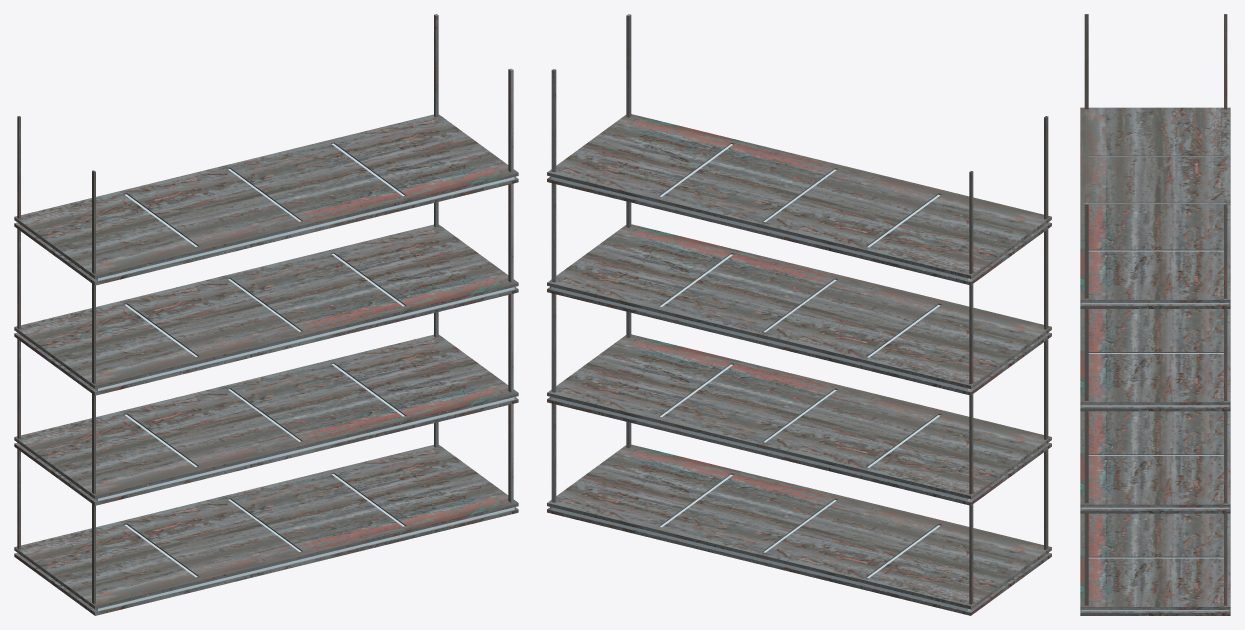
The model's file is EB_Storageshelf.fbx.
3 renders of one model, left to right at view 1: azimuth 30°, elevation 25°; view 2: azimuth 150°, elevation 25°; view 3: azimuth 270°, elevation 25°, orthographic. The views are drawn at different scales.
Parts seen in each view (by area): view 1: ShelfBig.001; view 2: ShelfBig.001; view 3: ShelfBig.001.
Boxes of the visible parts, x1,y1,x2,y2 form: ShelfBig.001: (14,14,518,615); ShelfBig.001: (547,14,1051,615); ShelfBig.001: (1080,14,1230,615).
Bounding box in the file's own units: 692 × 689 × 229.
